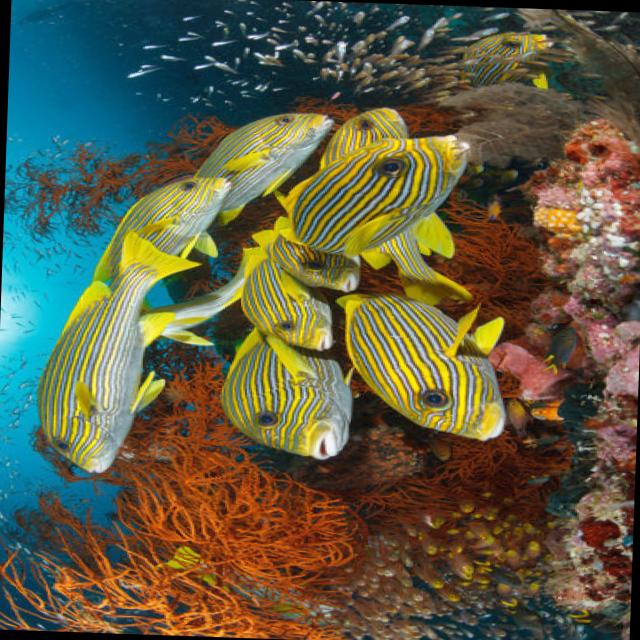RibbonedSweetlips: (35, 223, 203, 474), (330, 290, 510, 440), (282, 127, 473, 260), (218, 324, 356, 460), (193, 107, 335, 227), (90, 170, 219, 284), (237, 245, 335, 350)
